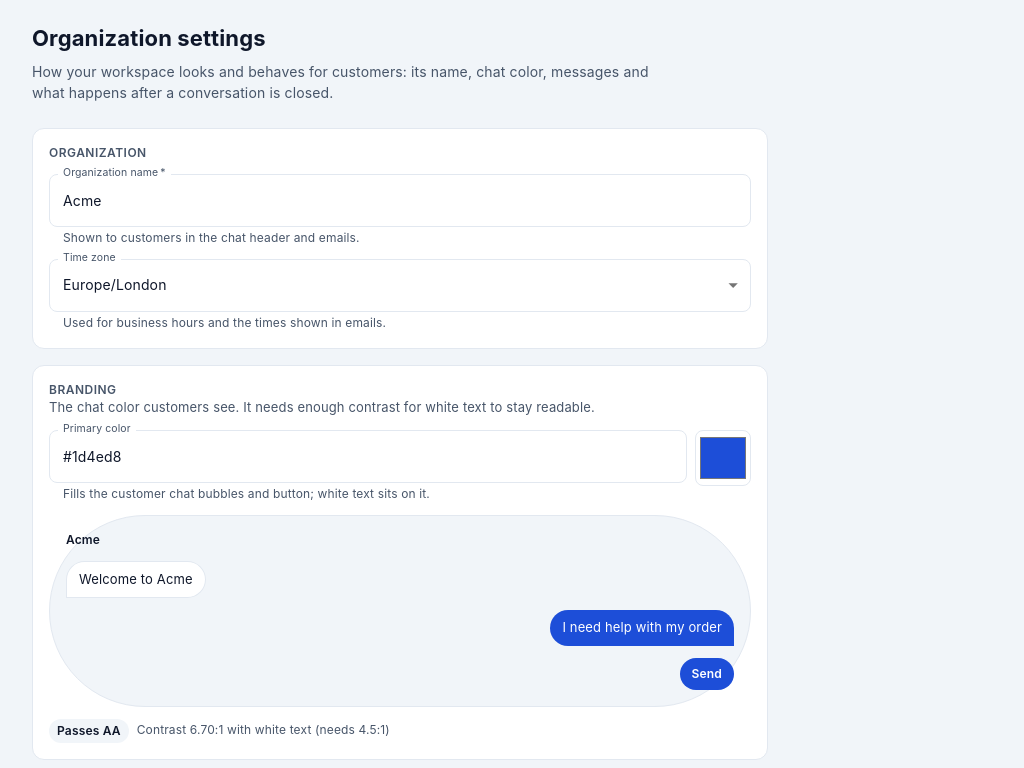
it: OrganizationSettingsPage › flags a failing color as it is typed and offers the closest passing shade
Replace the text in the field labelled "Primary color" with "#aaaaaa" at point(368, 456), box [49,430,687,483]
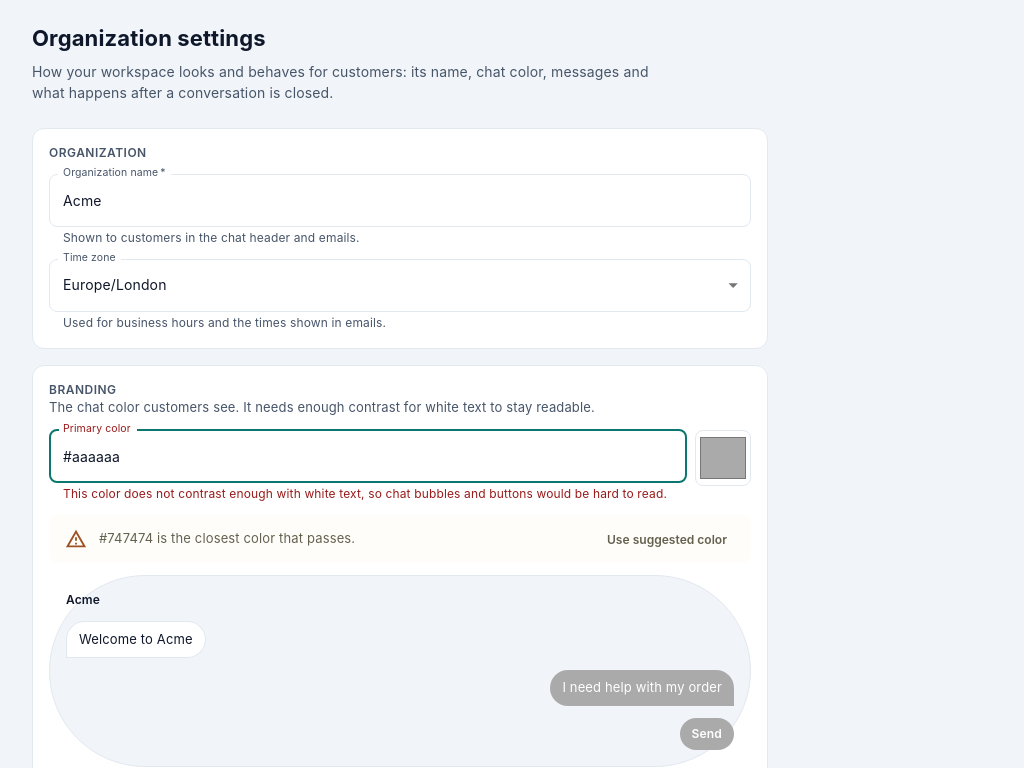
Result: the text "#747474 is the closest color that passes." is shown at [99,530,355,546]
Click the button "Use suggested color" at point(667, 539), box [591,525,743,554]
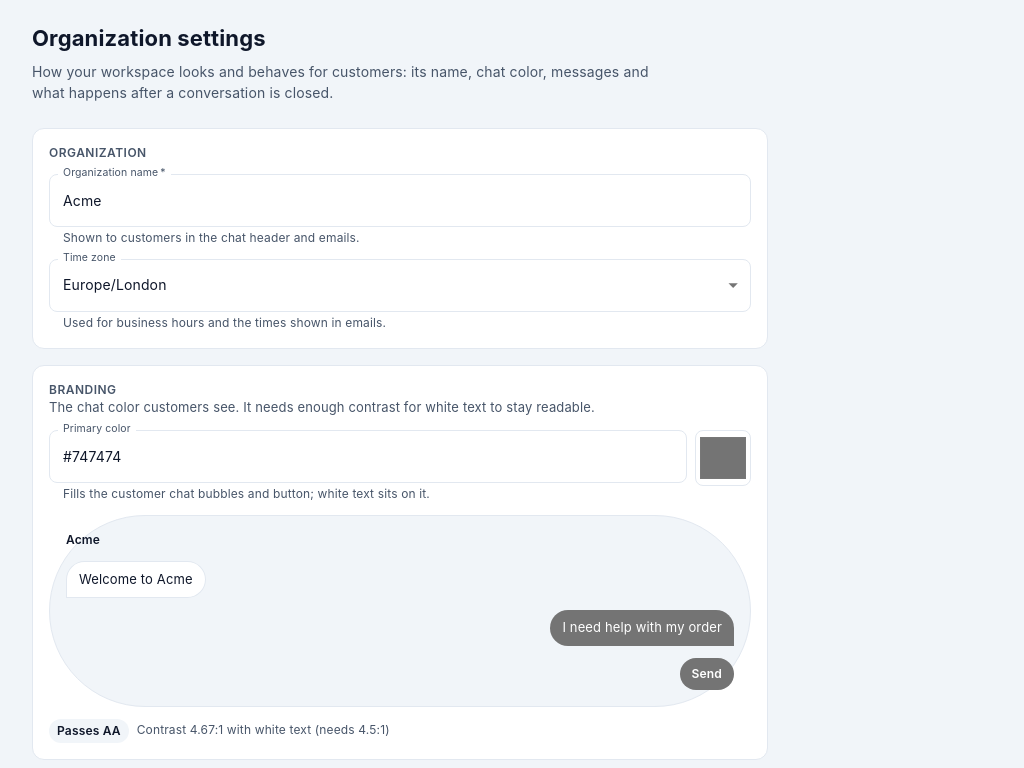
Result: the text "Passes AA" is shown at [57,723,121,738]
Result: the field labelled "Primary color" does not hold "#aaaaaa" at [49,430,687,483]
